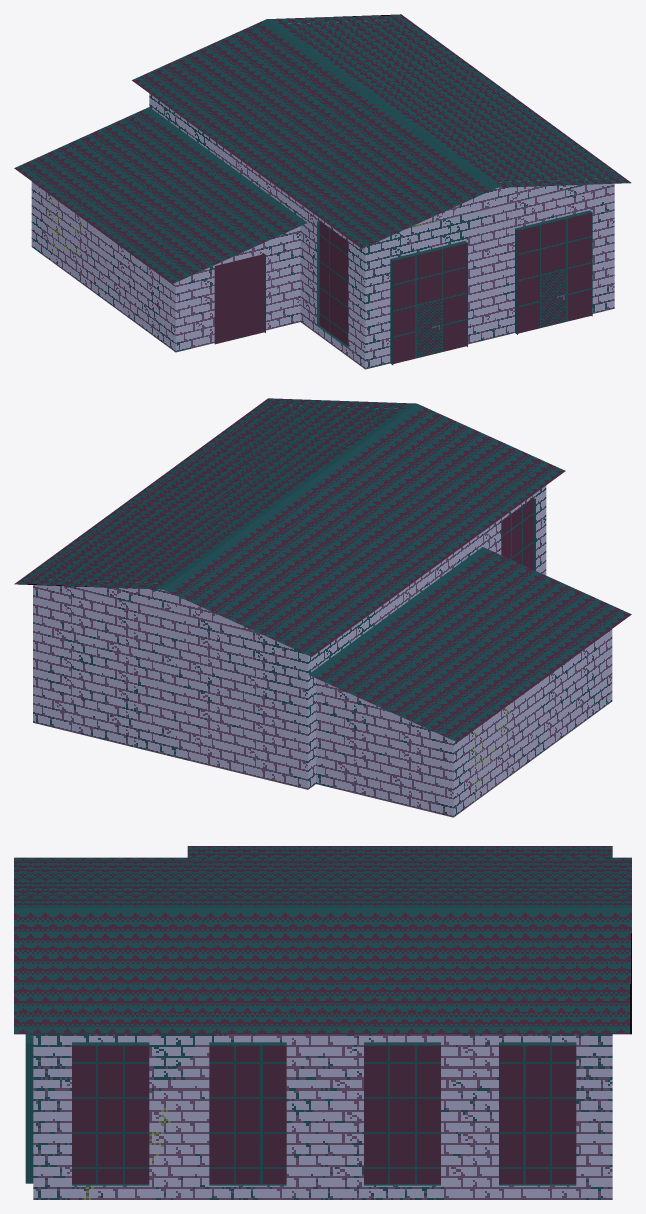
File: depot.glb
The picture shows the model from 3 angles, top to bottom: view 1: azimuth 30°, elevation 25°; view 2: azimuth 150°, elevation 25°; view 3: azimuth 270°, elevation 25°; orthographic projection. The views are drawn at different scales.
Parts seen in each view (by area): view 1: depot; view 2: depot; view 3: depot.
Part boxes in pixels (x1,y1,x2,y2): depot: (14, 14, 631, 369); depot: (14, 398, 631, 817); depot: (14, 846, 631, 1199).
Bounding box in the file's own units: 15.82 × 6 × 16.
Materials: 1 (1 with a texture image).
